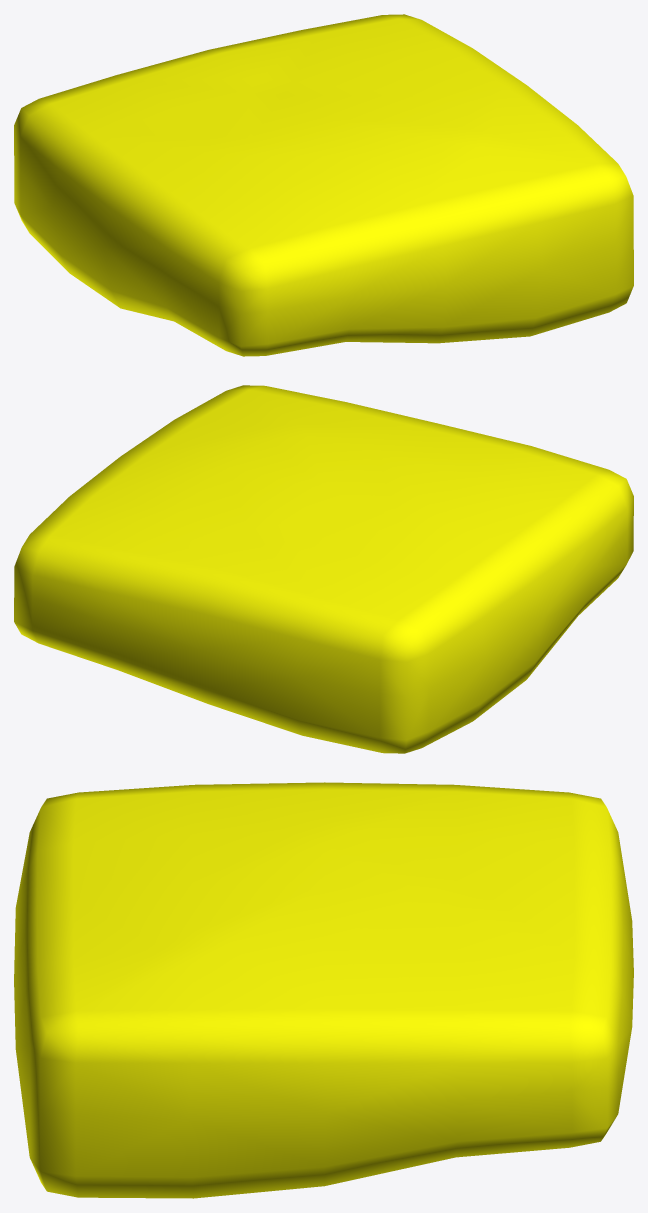
File: snowtop_deco.glb
3 renders of one model, top to bottom at view 1: azimuth 30°, elevation 25°; view 2: azimuth 150°, elevation 25°; view 3: azimuth 270°, elevation 25°, orthographic. The views are drawn at different scales.
Parts seen in each view (by area): view 1: snowtop_LOD0; view 2: snowtop_LOD0; view 3: snowtop_LOD0.
Part boxes in pixels (x1=…): snowtop_LOD0: x1=14, y1=14, x2=633, y2=356; snowtop_LOD0: x1=14, y1=385, x2=633, y2=753; snowtop_LOD0: x1=14, y1=782, x2=633, y2=1198.
Size of what is drawn, in the model's own units: 1.2 by 0.4236 by 1.17.
Materials: 1 (1 with a texture image).
